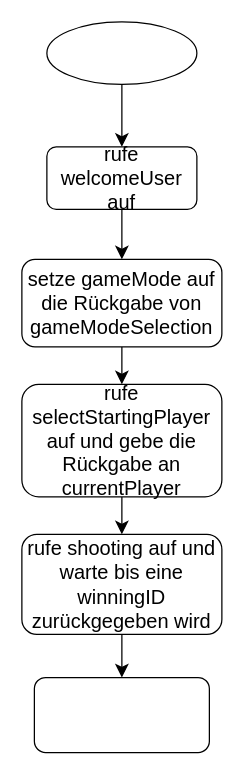
Some shapes in this 244 by 775 pixel diagram are drawn without their labels. Each missing label, with the centre of its shape:
"gebe diese winningID an battleEnd weiter" goes at (121,714).
"main" goes at (121,52).
